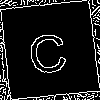C: (24, 24, 70, 75)
